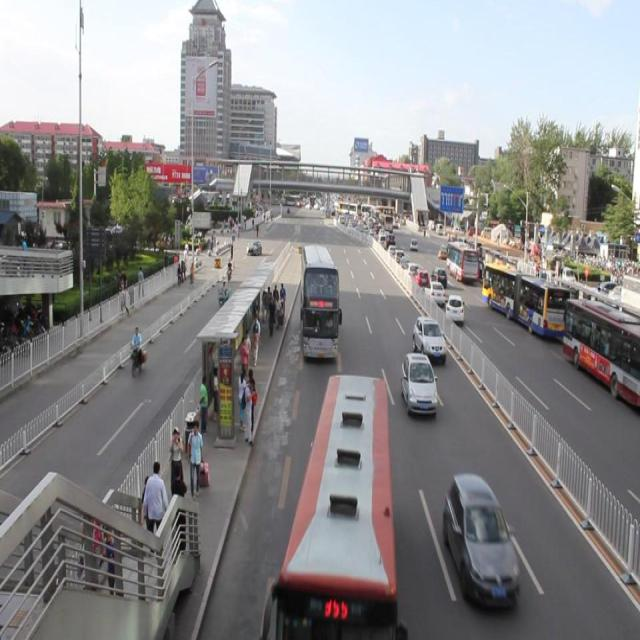car: (439, 472, 523, 611), (397, 351, 440, 419), (410, 316, 447, 362)
van: (262, 372, 405, 640), (298, 241, 343, 365)
